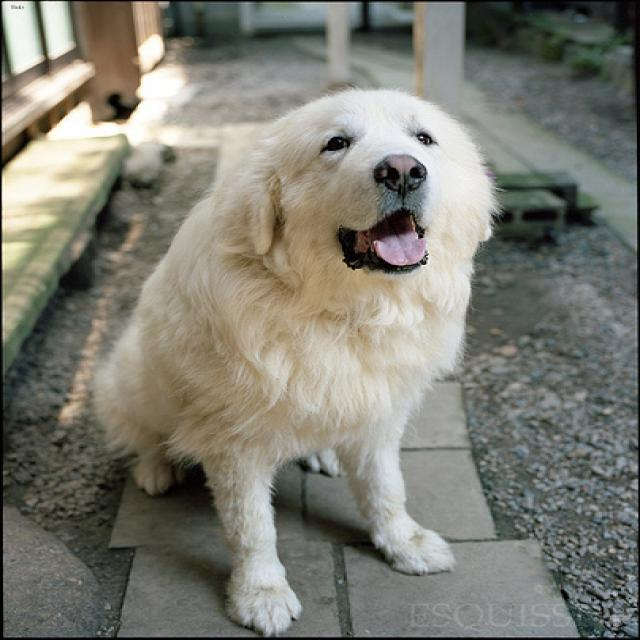dog-great_pyrenees: (79, 74, 509, 637)
